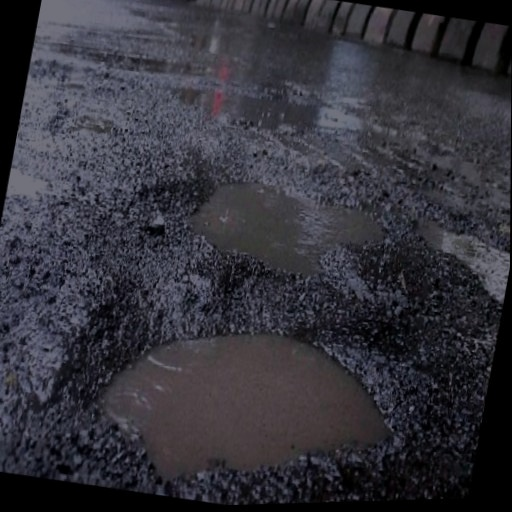pothole: (46, 264, 420, 511), (159, 141, 403, 298)
